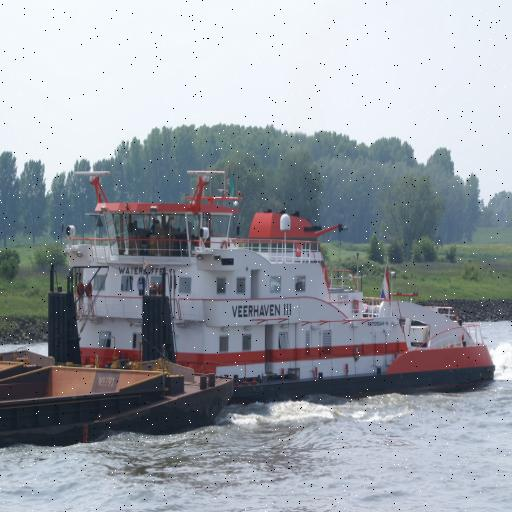tugboat: (44, 168, 500, 409)
